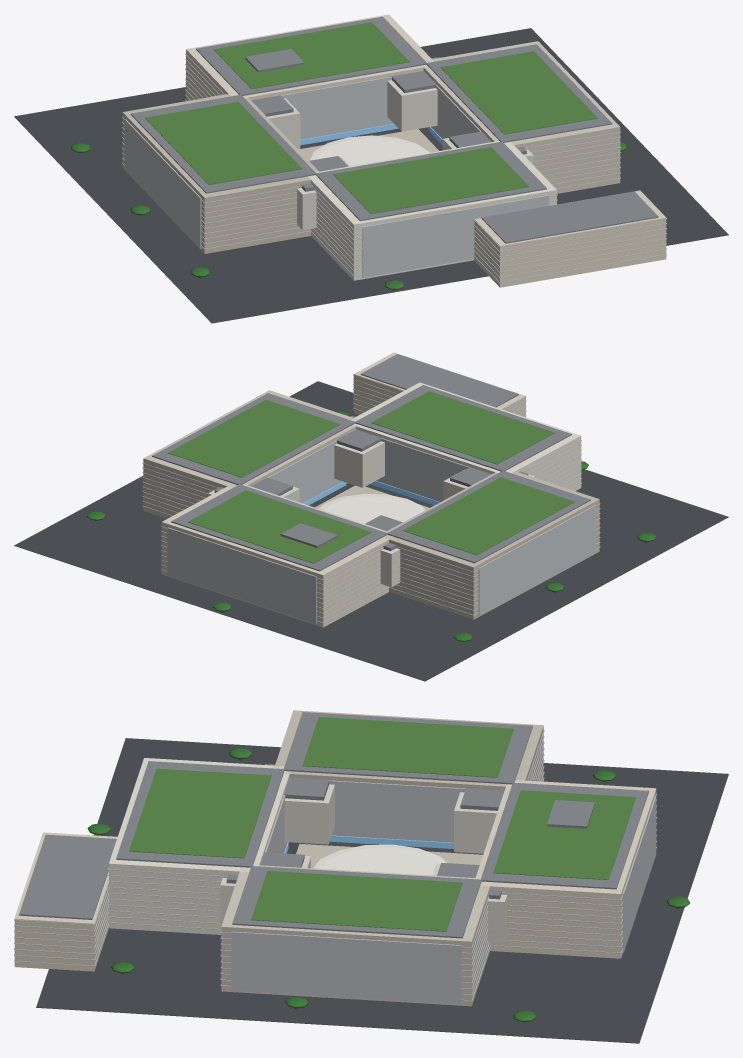
The model's file is garden-five.glb.
The picture shows the model from 3 angles, top to bottom: view 1: azimuth 30°, elevation 25°; view 2: azimuth 150°, elevation 25°; view 3: azimuth 270°, elevation 25°; orthographic projection. The views are drawn at different scales.
Size of the model in its own units: 571 by 60.6 by 565.
